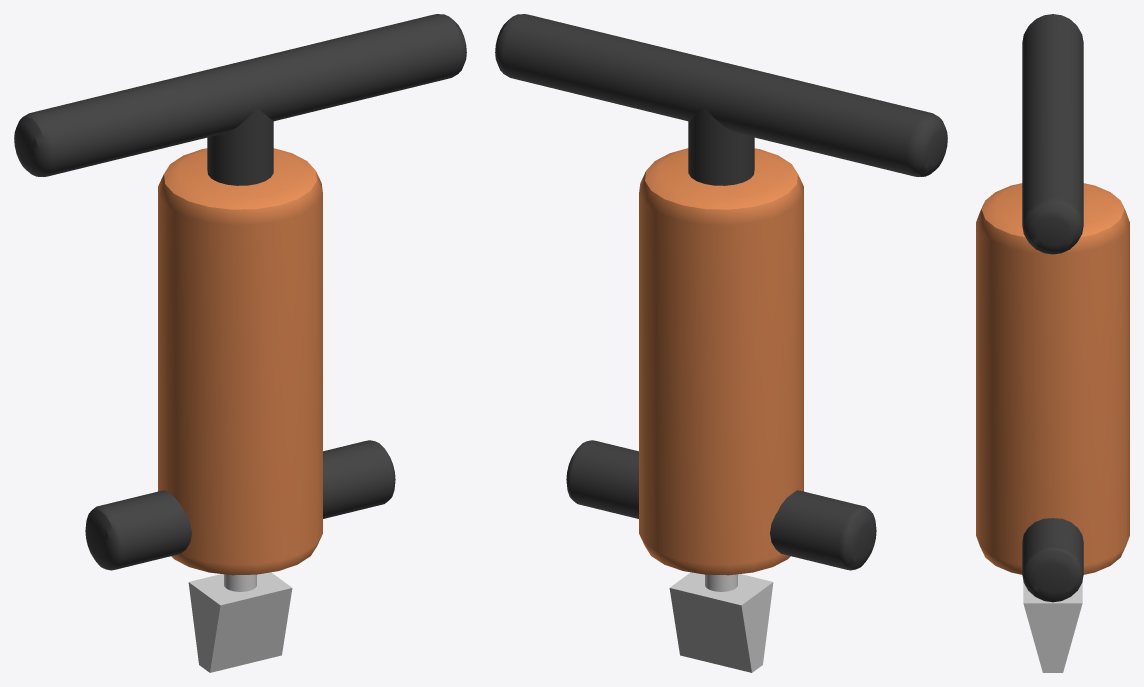
The model's file is Jackhammer.fbx.
The picture shows the model from 3 angles, left to right: view 1: azimuth 30°, elevation 25°; view 2: azimuth 150°, elevation 25°; view 3: azimuth 270°, elevation 25°; orthographic projection. The views are drawn at different scales.
Visible parts, largest first — view 1: pCube3; view 2: pCube3; view 3: pCube3.
Part boxes in pixels (x1,y1,x2,y2): pCube3: (14,14,466,672); pCube3: (495,14,947,672); pCube3: (976,14,1129,672).
Size of the model in its own units: 6 by 7.9 by 2.
